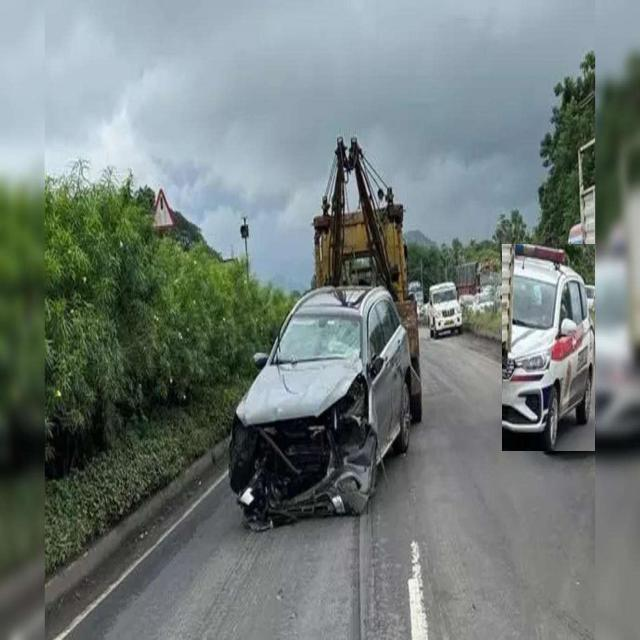accident: (229, 284, 410, 531)
car: (502, 244, 595, 451)
